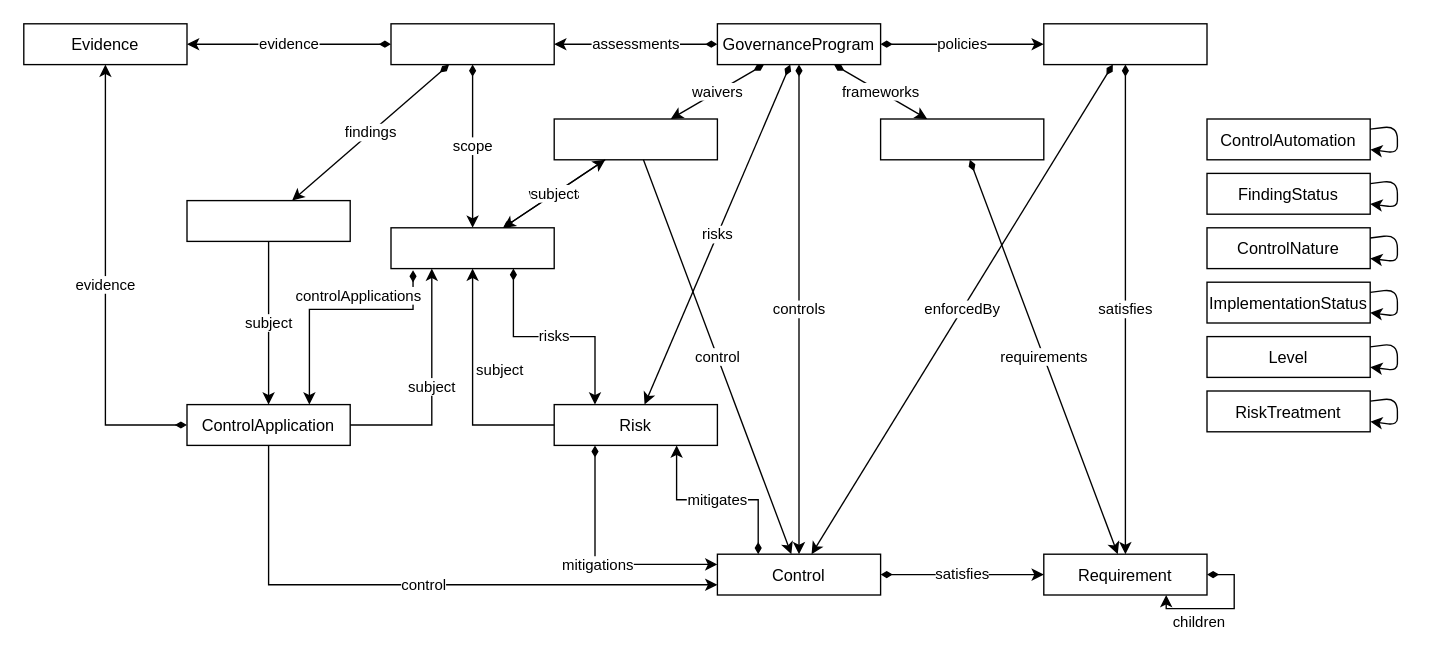
This 1432x654 diagram has some shape labels left out. Here are the shapes that lost their labels. From the top down, the centre of each, then its label:
At (472,43): "Assessment".
At (1124,43): "Policy".
At (635,139): "Waiver".
At (961,139): "Framework".
At (268,220): "Finding".
At (472,247): "GovernedElement".
